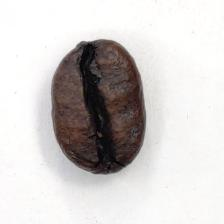NG: (67, 46, 132, 163)
